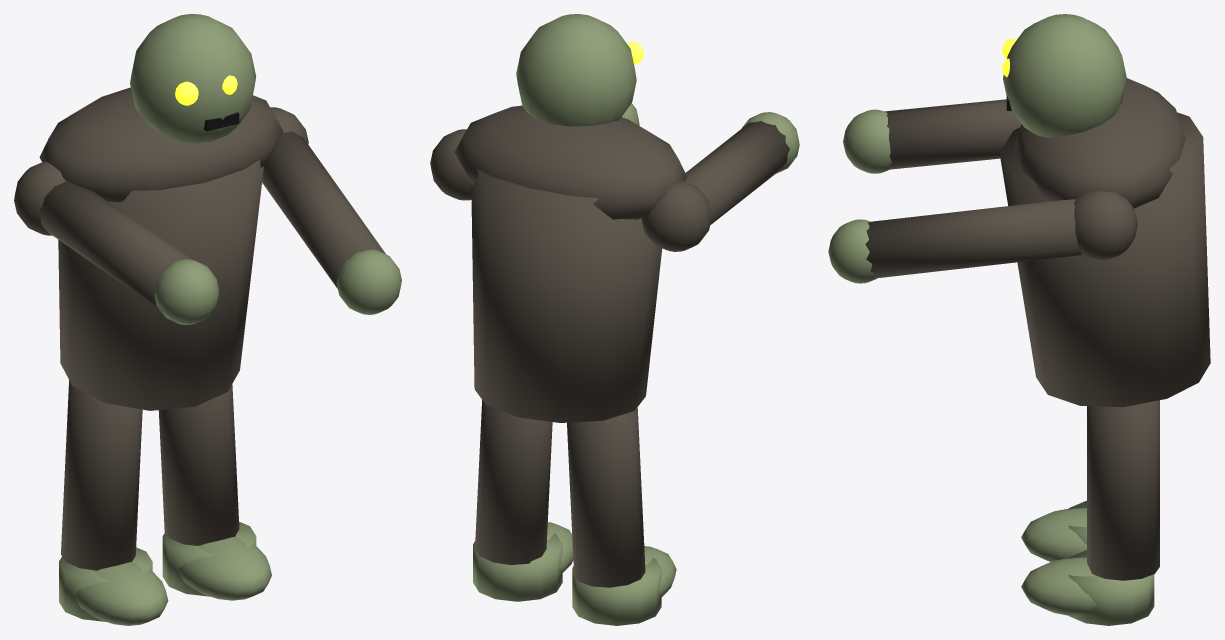
Rendered from zombie.glb.
The picture shows the model from 3 angles, left to right: view 1: azimuth 30°, elevation 25°; view 2: azimuth 150°, elevation 25°; view 3: azimuth 270°, elevation 25°; orthographic projection. The views are drawn at different scales.
Visible parts, largest first — view 1: zombie; view 2: zombie; view 3: zombie.
Part boxes in pixels (left/top/right/bottom): zombie: left=14, top=14, right=401, bottom=625; zombie: left=430, top=14, right=799, bottom=625; zombie: left=828, top=14, right=1210, bottom=625.
Bounding box in the file's own units: 0.44 × 0.8652 × 0.5235.
